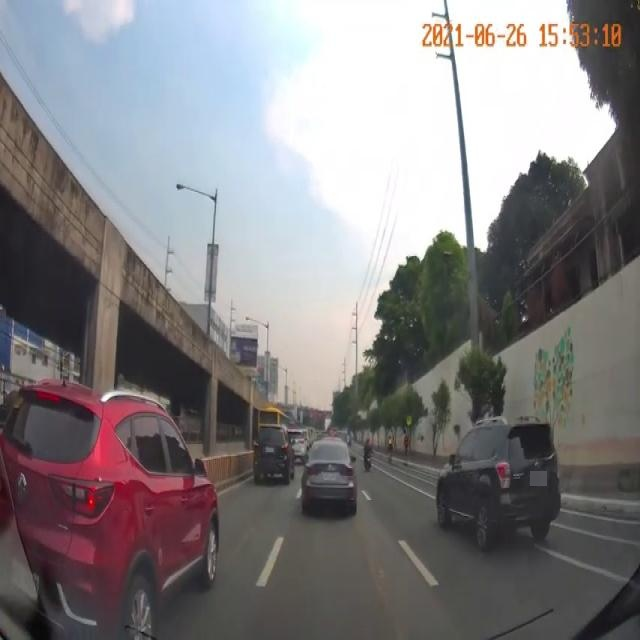car: (7, 382, 220, 614), (433, 415, 555, 558), (300, 437, 359, 515), (254, 426, 296, 487)
motorcycle: (363, 438, 374, 476)
